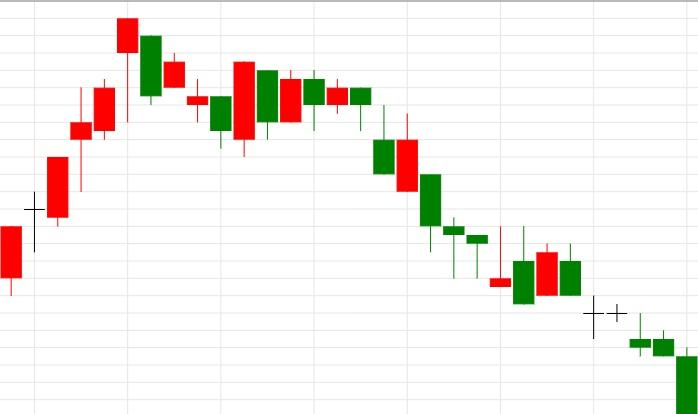bullish_engulfing_rise: (141, 35, 255, 157)
hanging_man_fall: (1, 18, 139, 296)
